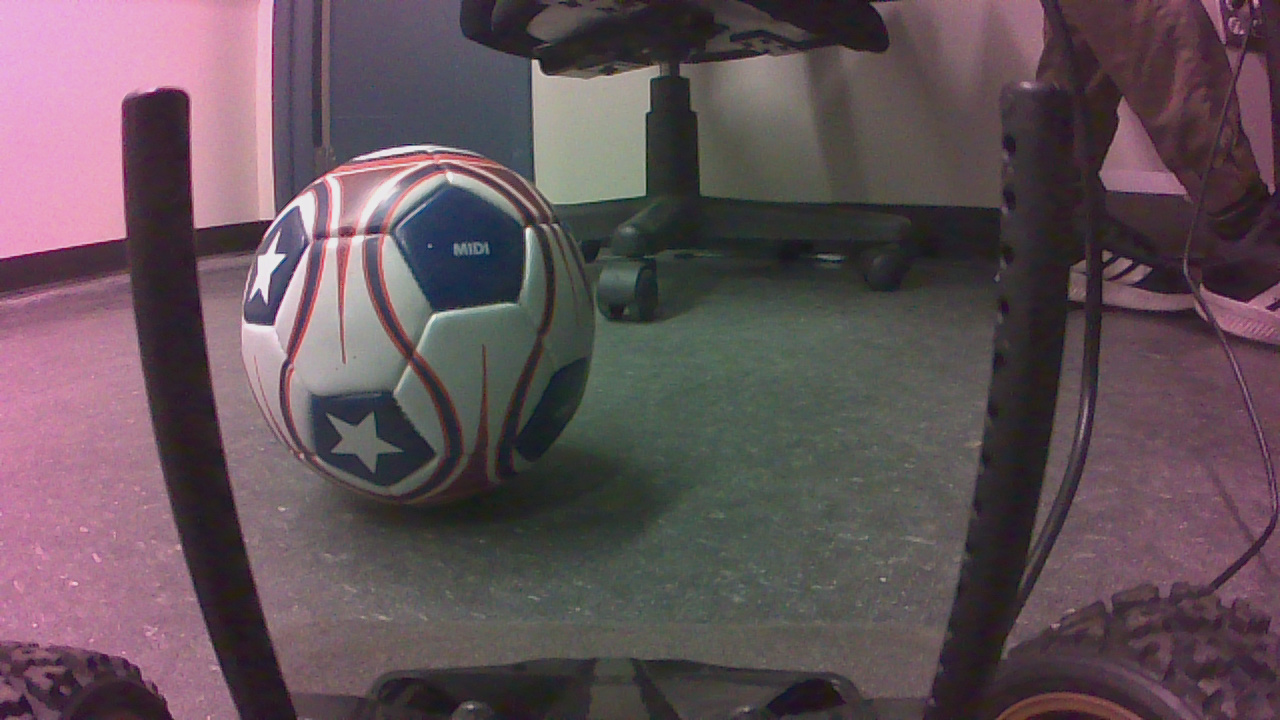ball: (243, 150, 603, 515)
